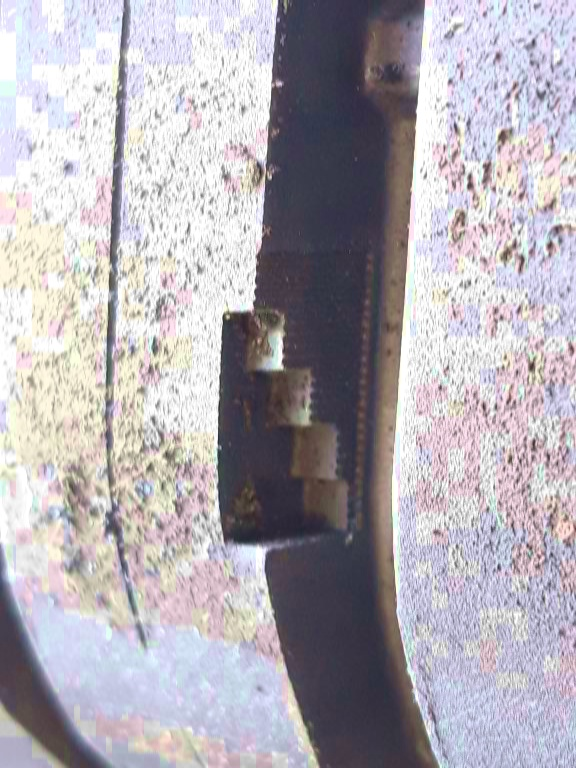temoin:95: (196, 241, 387, 566)
